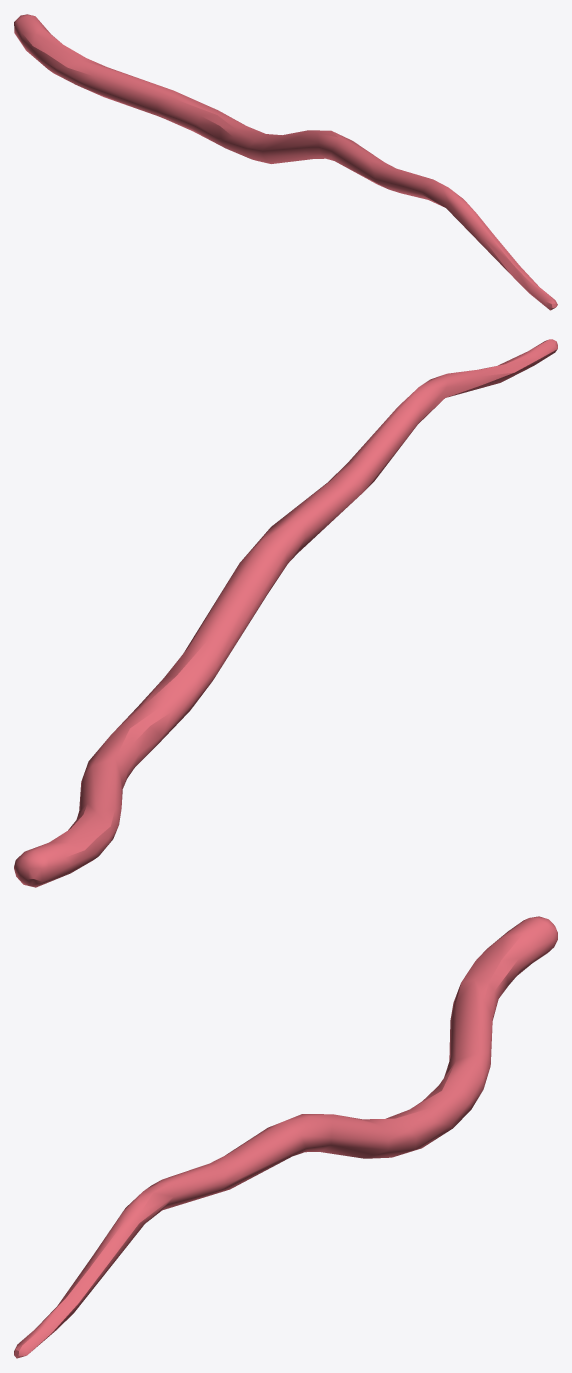
The model's file is fma51307_fj4680.glb.
3 renders of one model, top to bottom at view 1: azimuth 30°, elevation 25°; view 2: azimuth 150°, elevation 25°; view 3: azimuth 330°, elevation 25°, orthographic. The views are drawn at different scales.
Visible parts, largest first — view 1: FMA51307_FJ4680; view 2: FMA51307_FJ4680; view 3: FMA51307_FJ4680.
Part boxes in pixels (x1,y1,x2,y2): FMA51307_FJ4680: [14, 14, 557, 310]; FMA51307_FJ4680: [14, 339, 557, 887]; FMA51307_FJ4680: [14, 916, 557, 1358].
Size of the model in its own units: 0.00537 by 0.00629 by 0.0459.
